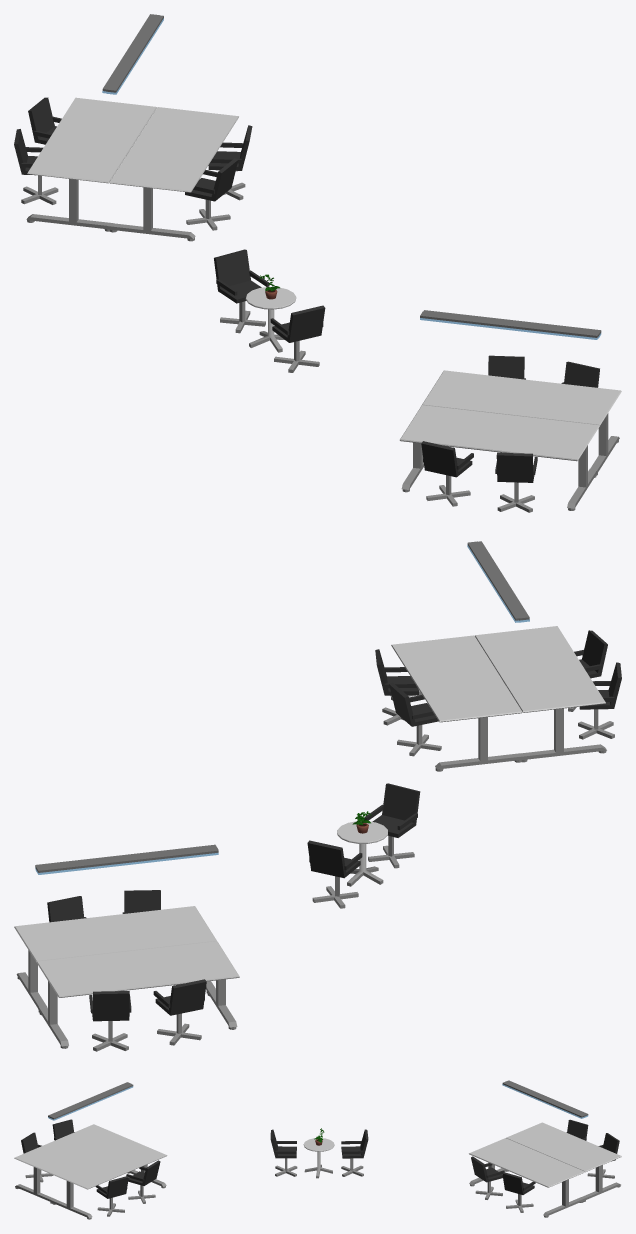
File: d-roomcomp-t-conferenceroom-in.glb
3 views of the same model, one above another, from view 1: azimuth 30°, elevation 25°; view 2: azimuth 150°, elevation 25°; view 3: azimuth 270°, elevation 25° (orthographic). The views are drawn at different scales.
Parts seen in each view (by area): view 1: desk.016, desk.013, desk.014, desk.015, table_chair.015; view 2: desk.014, desk.015, desk.016, desk.013, table_chair.015; view 3: desk.015, desk.013, desk.016, desk.014, table_chair.015.
Boxes of the visible parts, left/top/right/bottom form: desk.016: left=399, top=310, right=601, bottom=512; desk.013: left=102, top=14, right=252, bottom=241; desk.014: left=14, top=14, right=163, bottom=231; desk.015: left=420, top=311, right=621, bottom=475; table_chair.015: left=214, top=249, right=325, bottom=372; desk.014: left=35, top=844, right=239, bottom=1051; desk.015: left=375, top=541, right=529, bottom=771; desk.016: left=467, top=541, right=621, bottom=762; desk.013: left=14, top=846, right=218, bottom=1012; table_chair.015: left=307, top=783, right=420, bottom=908; desk.015: left=48, top=1082, right=167, bottom=1219; desk.013: left=469, top=1080, right=588, bottom=1217; desk.016: left=14, top=1083, right=133, bottom=1203; desk.014: left=502, top=1081, right=621, bottom=1202; table_chair.015: left=270, top=1128, right=368, bottom=1178.
Size of the model in its own units: 5.14 by 3.17 by 19.83.
2 materials, 2 textured.
